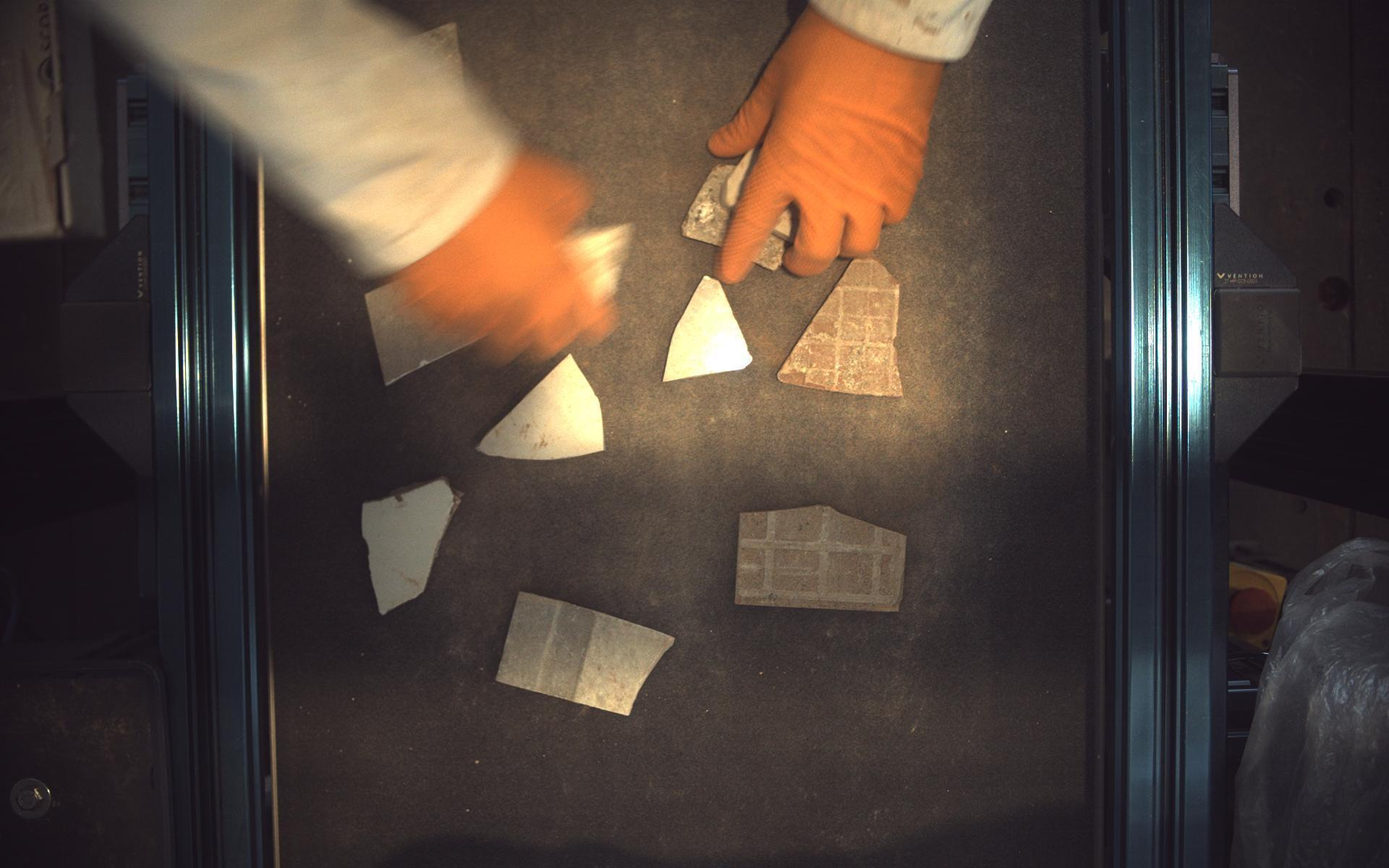tile: (496, 592, 675, 716), (737, 506, 909, 613), (779, 258, 904, 396), (477, 354, 605, 460), (362, 478, 459, 616), (365, 280, 468, 385), (664, 276, 753, 381), (683, 162, 737, 246)
